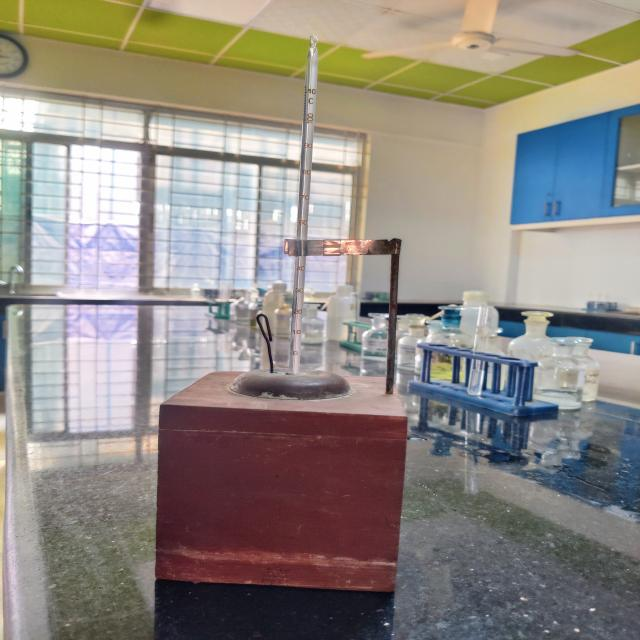Calorimeter: (134, 21, 464, 616)
